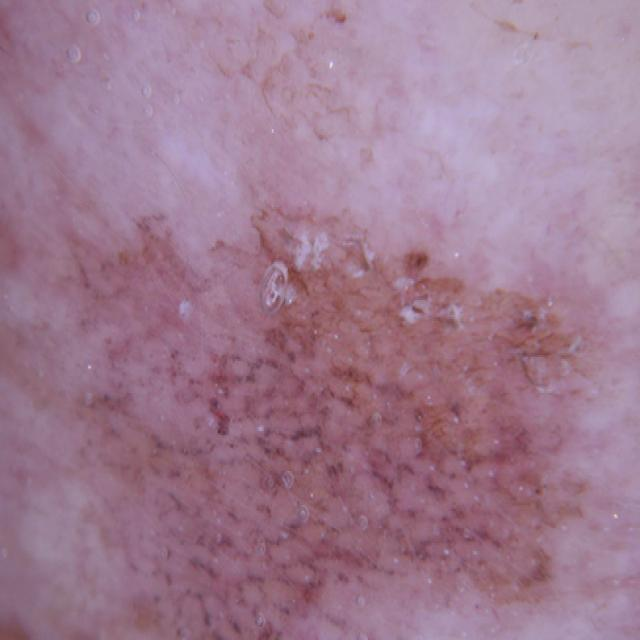Keratosis: (57, 163, 605, 640)
